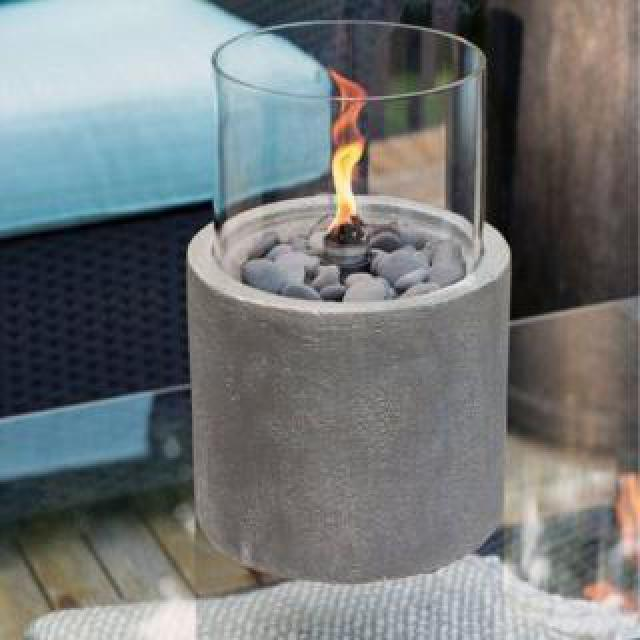Fire: (322, 70, 376, 234)
